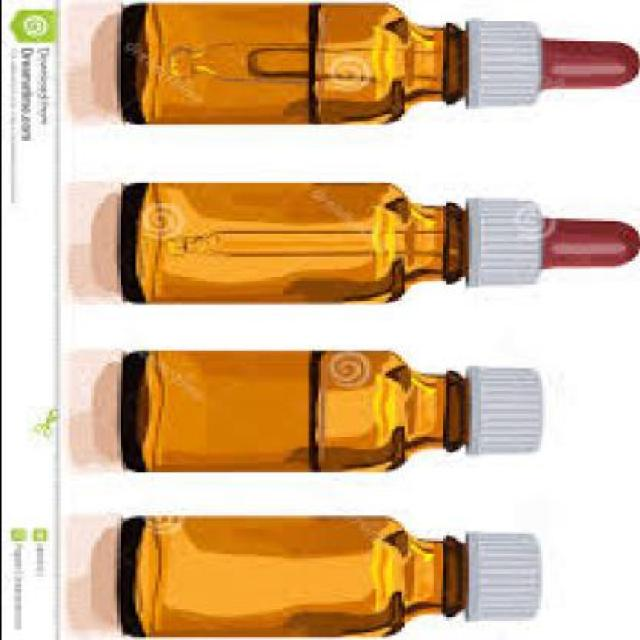GLASS: (122, 513, 467, 635), (125, 348, 470, 470), (125, 0, 467, 122), (122, 180, 467, 300)
PLASTIC: (464, 531, 547, 617), (467, 366, 544, 452), (467, 198, 544, 282), (470, 20, 544, 102)
